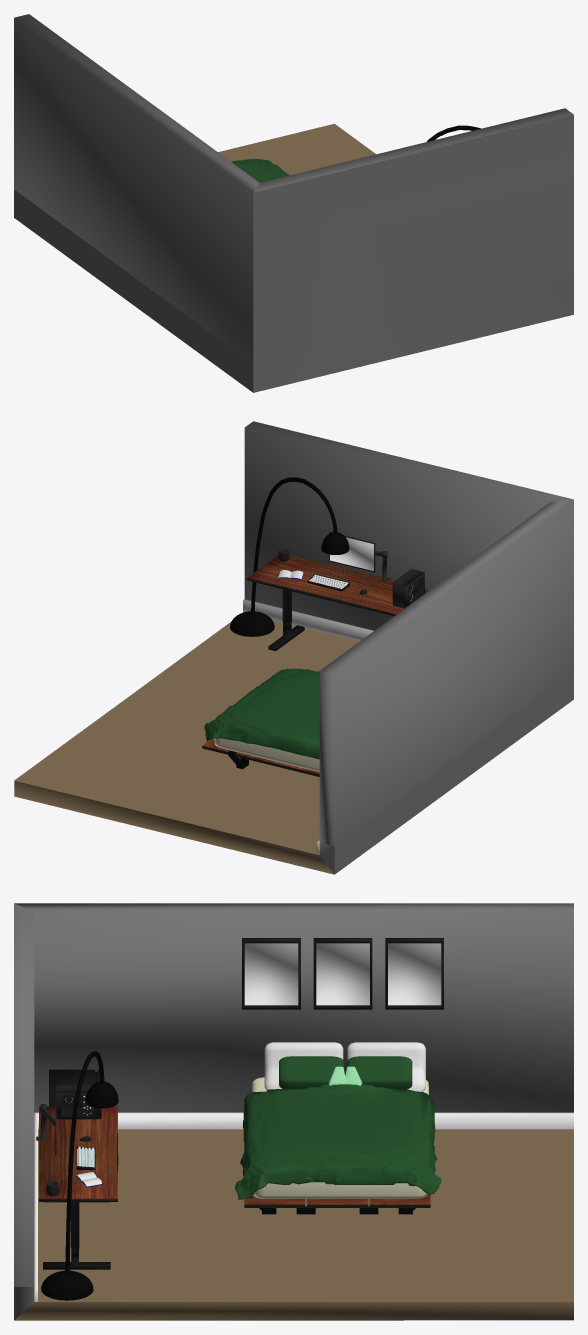
Rendered from room3.gltf.
The picture shows the model from 3 angles, top to bottom: view 1: azimuth 30°, elevation 25°; view 2: azimuth 150°, elevation 25°; view 3: azimuth 270°, elevation 25°; orthographic projection. The views are drawn at different scales.
Parts seen in each view (by area): view 1: room; view 2: room; view 3: room.
Part boxes in pixels (bbox=[...]): room: bbox=[14, 14, 573, 392]; room: bbox=[14, 421, 573, 874]; room: bbox=[14, 903, 573, 1320].
Bounding box in the file's own units: 21.17 × 12.62 × 27.37.
28 materials, 2 textured.
